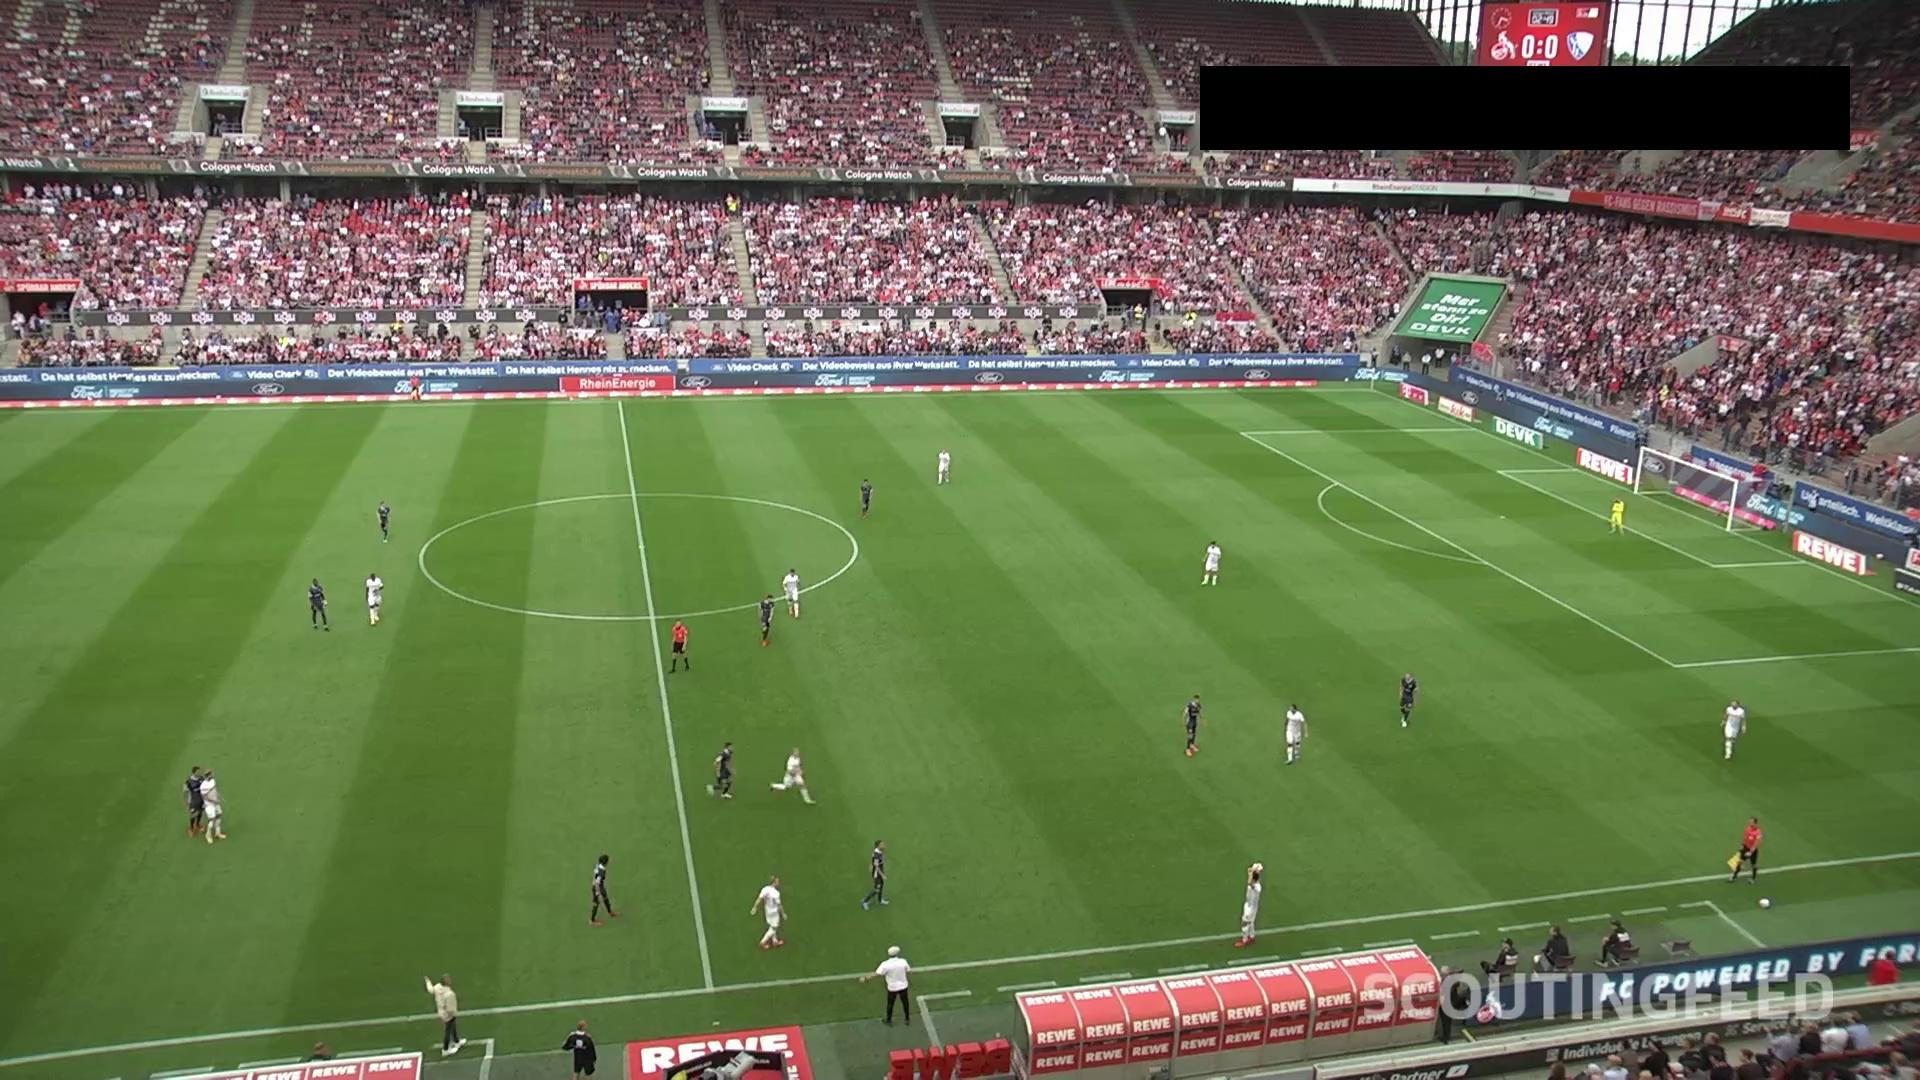Location-of-ball: (1247, 841, 1273, 873)
